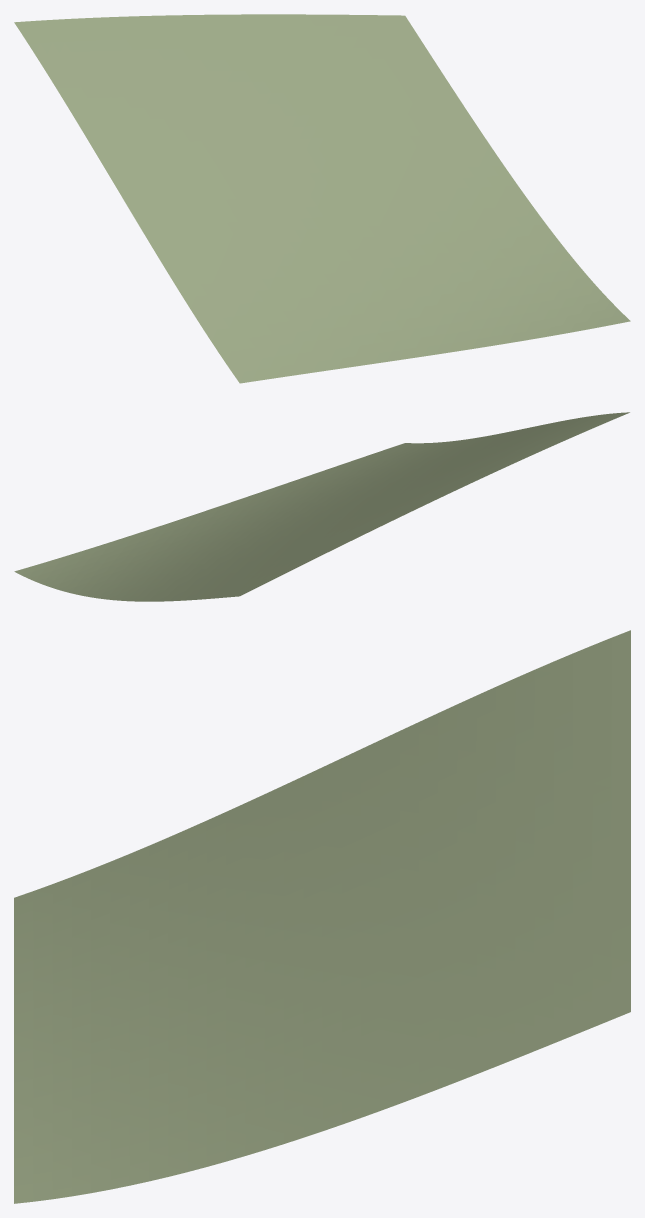
Rendered from expanse-21-9.glb.
The picture shows the model from 3 angles, top to bottom: view 1: azimuth 30°, elevation 25°; view 2: azimuth 210°, elevation 25°; view 3: azimuth 270°, elevation 25°; orthographic projection. The views are drawn at different scales.
Visible parts, largest first — view 1: expanse-21-9; view 2: expanse-21-9; view 3: expanse-21-9.
Part boxes in pixels (x1,y1,x2,y2): expanse-21-9: [14, 14, 630, 383]; expanse-21-9: [14, 412, 629, 601]; expanse-21-9: [14, 630, 630, 1203].
Size of the model in its own units: 256 by 143 by 256.
